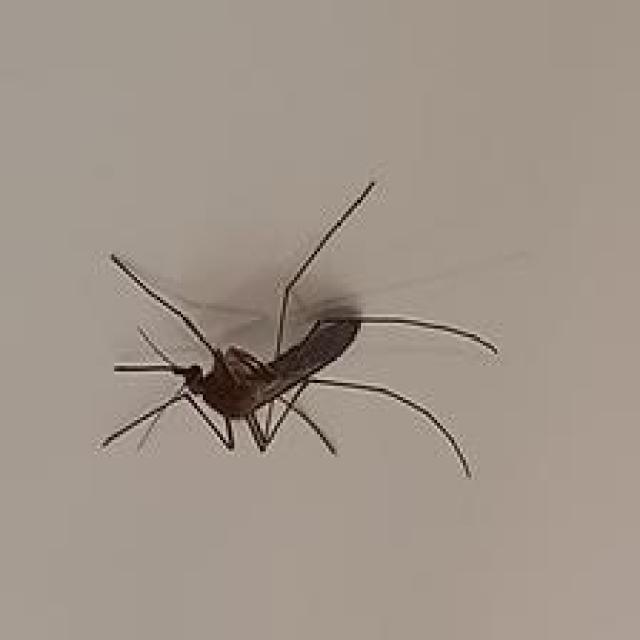Culex: (99, 177, 498, 480)
